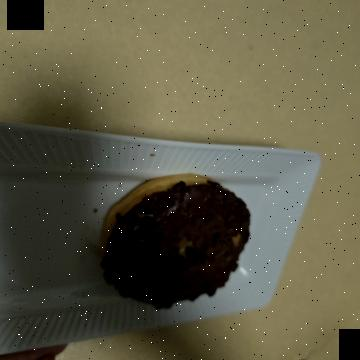doughnut: (169, 96, 329, 278)
